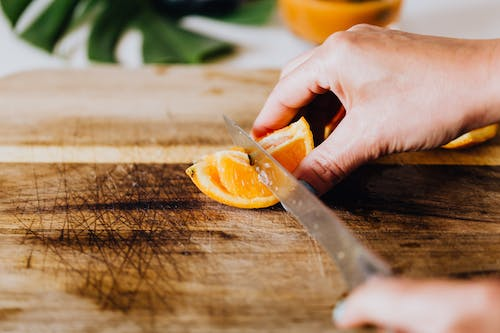knife: (221, 112, 393, 293)
